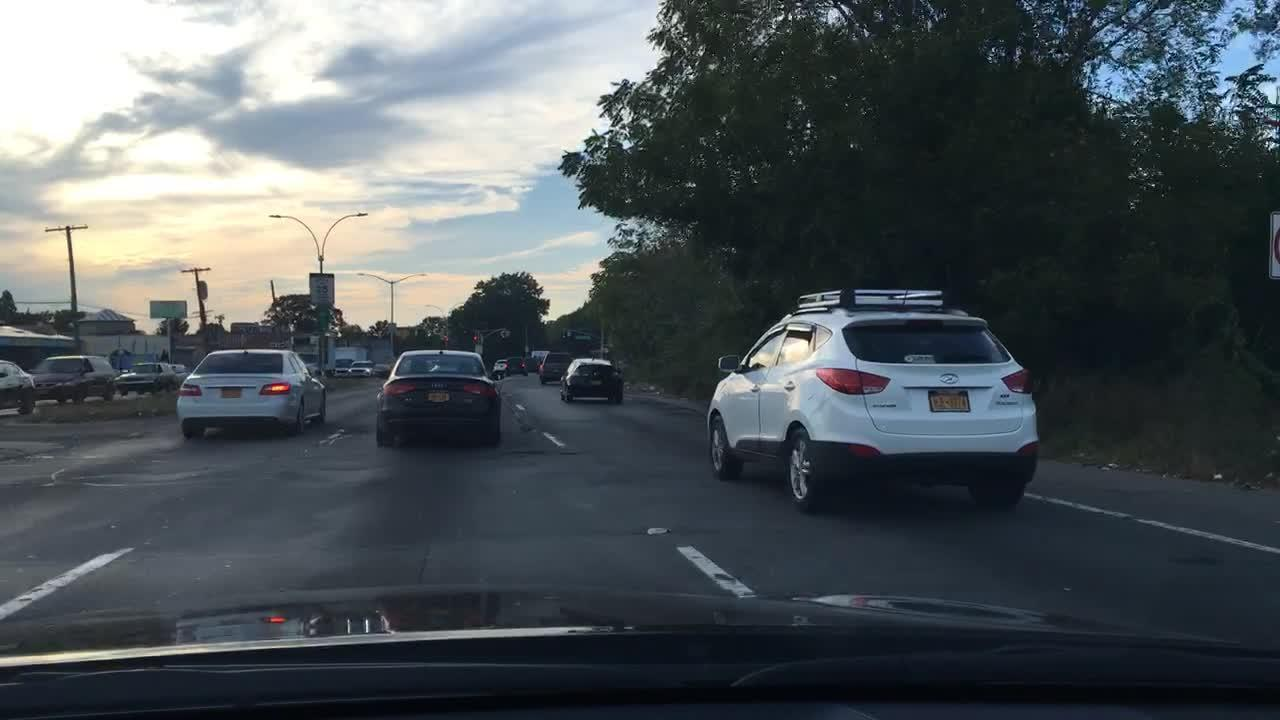Audi: (428, 379, 451, 390)
Hyundai: (933, 367, 967, 387)
